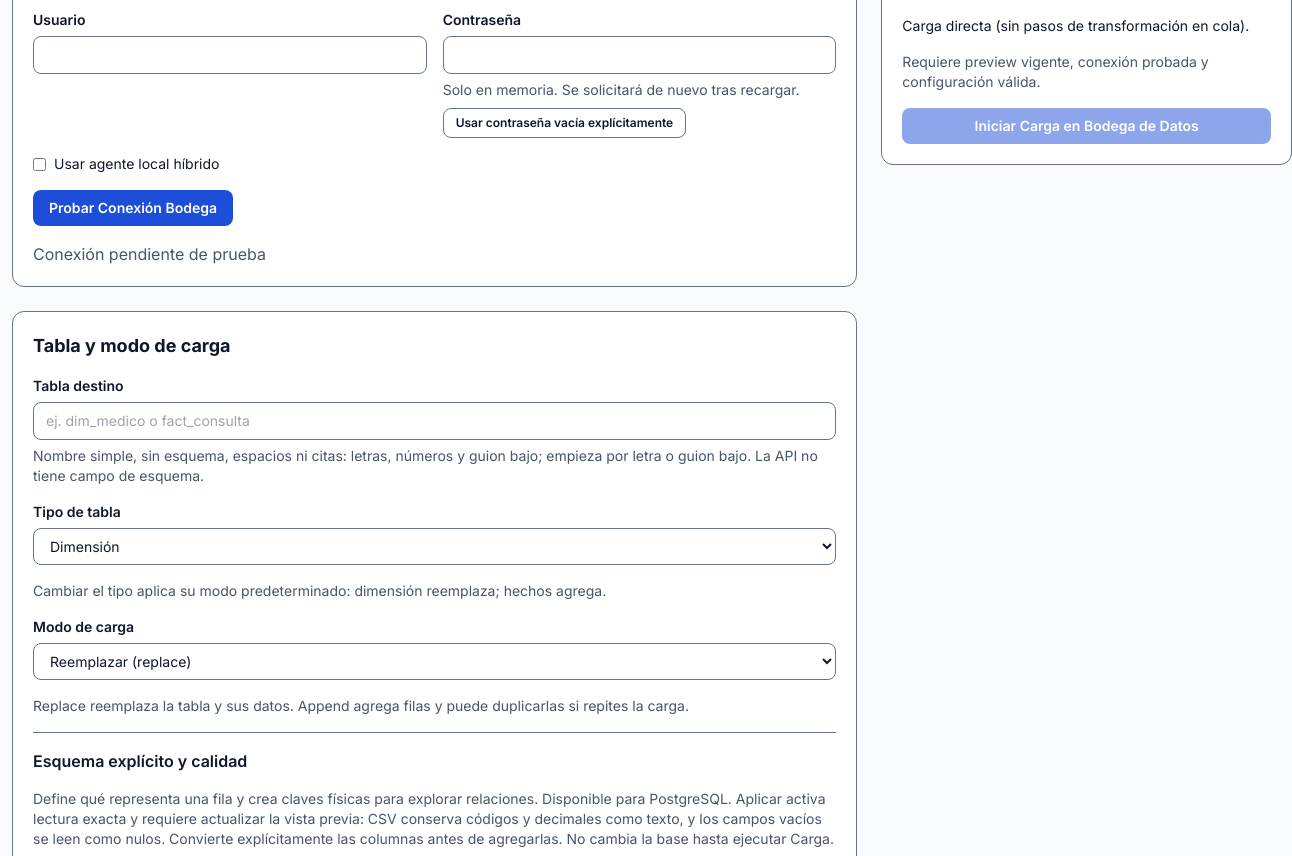
it: credential recovery UI › a failed preview prevents loading even with a verified destination
(page scrolled)
Type "t" into the field with placeholder "ej. dim_medico o fact_consulta" at (435, 421), box x1=33 y1=402 x2=836 y2=440
(page scrolled)
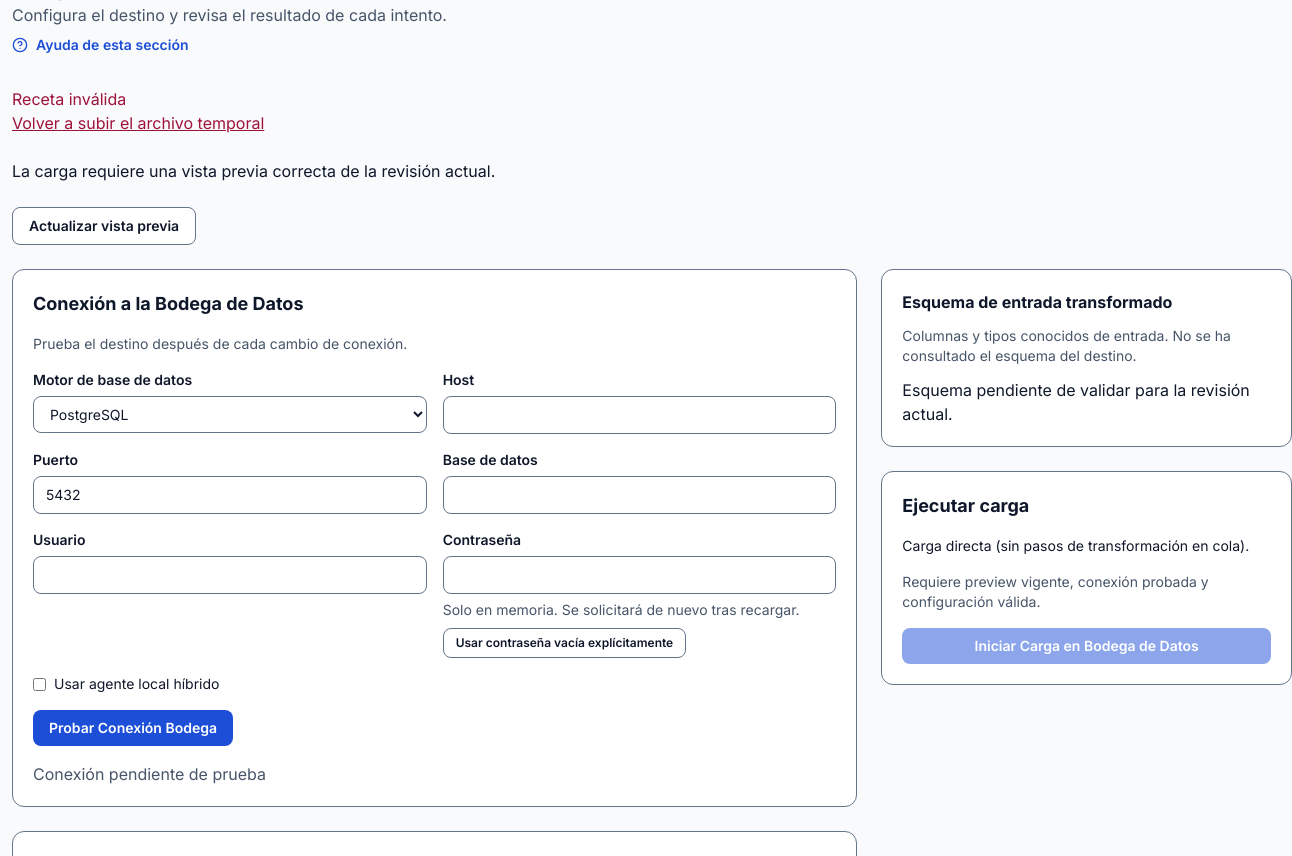
Type "localhost" into the field labelled "Host" at (640, 415), box x1=443 y1=396 x2=836 y2=434
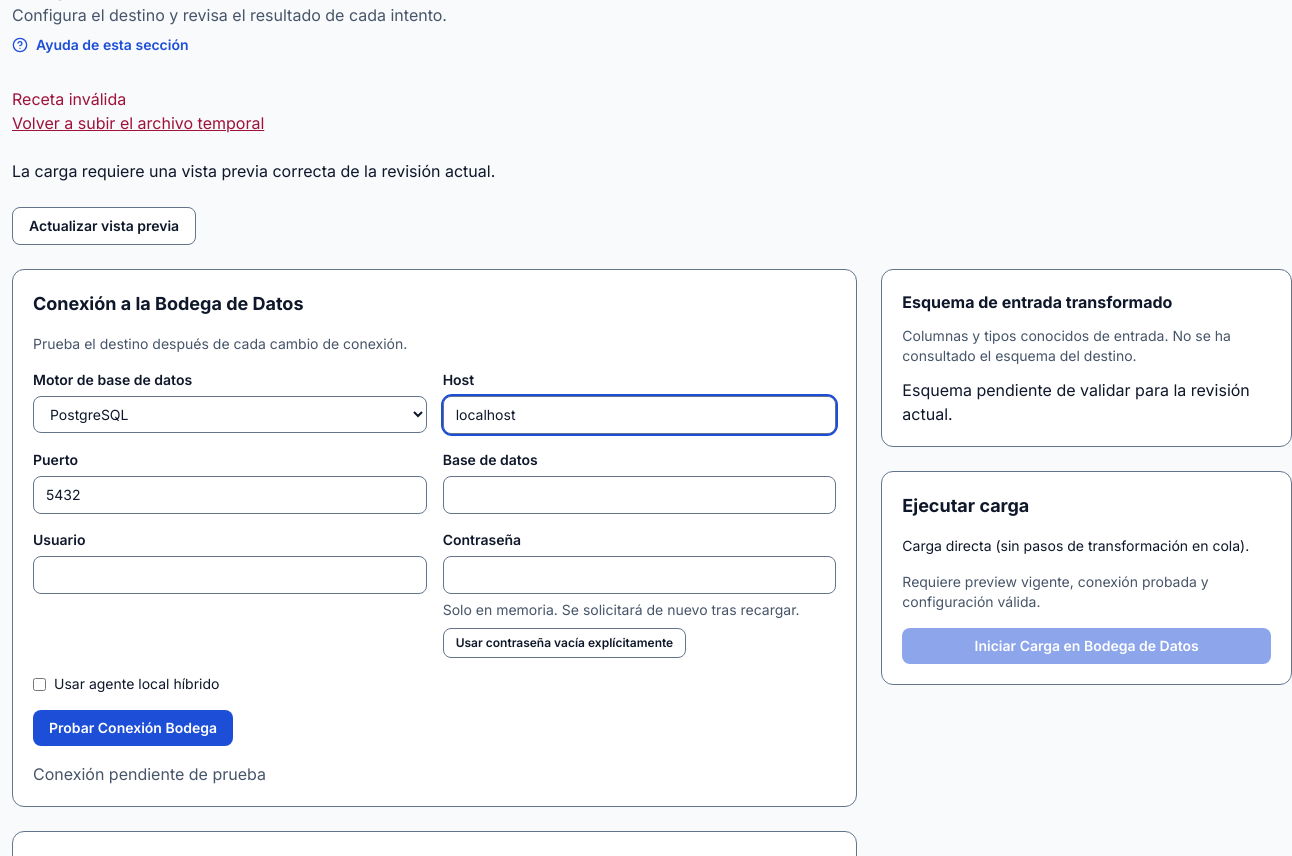
Type "base_de_destino" into the field labelled "Base de datos" at (640, 495), box x1=443 y1=476 x2=836 y2=514
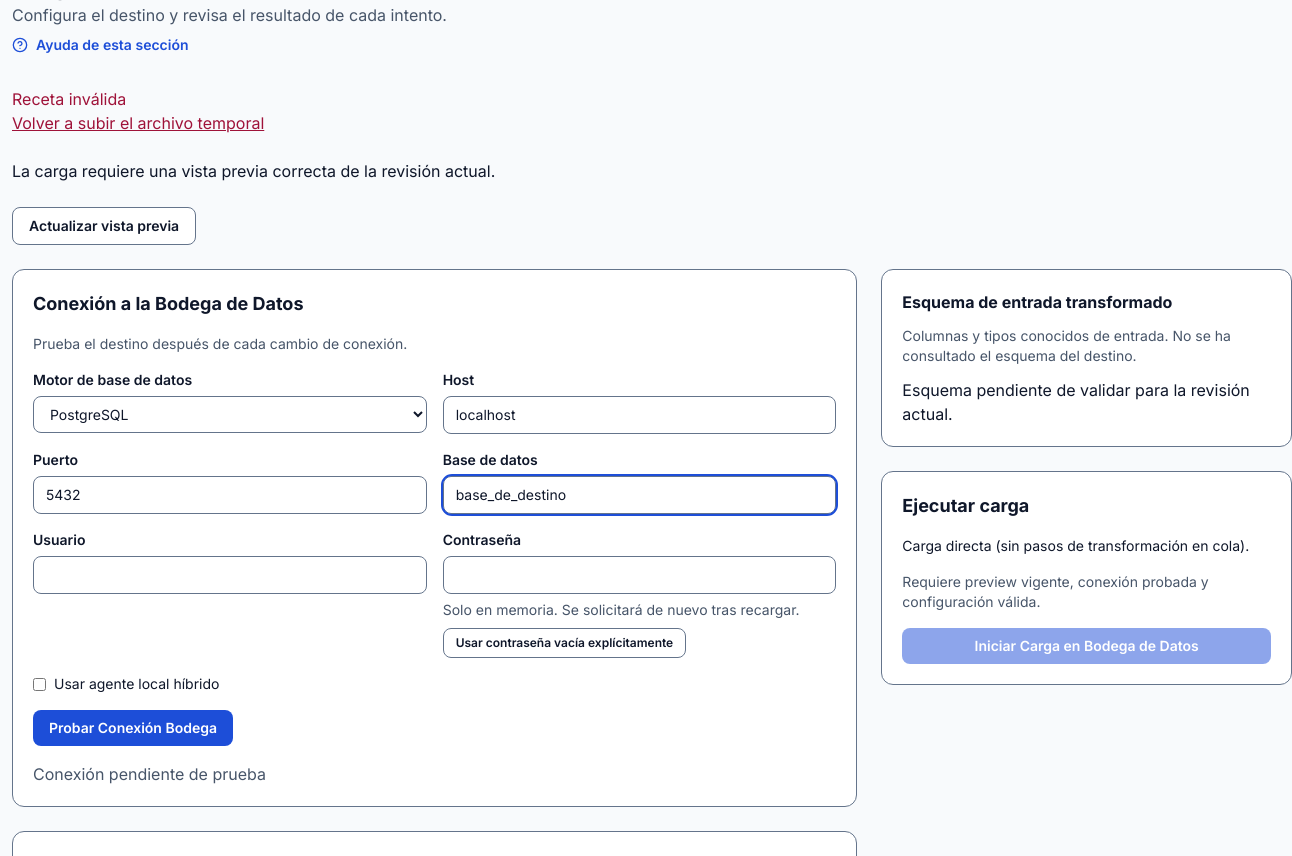
Type "postgres" into the field labelled "Usuario" at (230, 575), box x1=33 y1=556 x2=427 y2=594
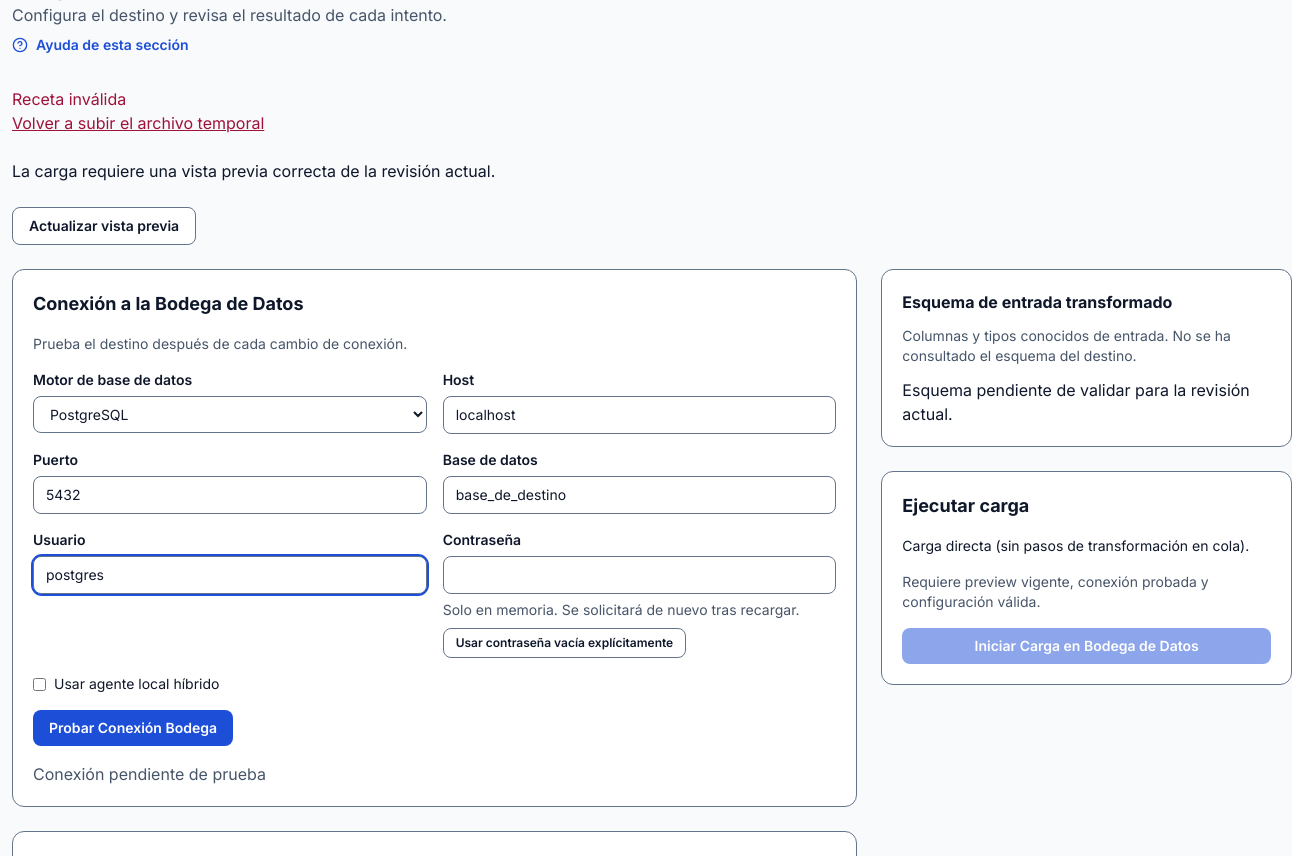
Click the button "Usar contraseña vacía explícitamente" at (564, 643), box x1=443 y1=628 x2=686 y2=658
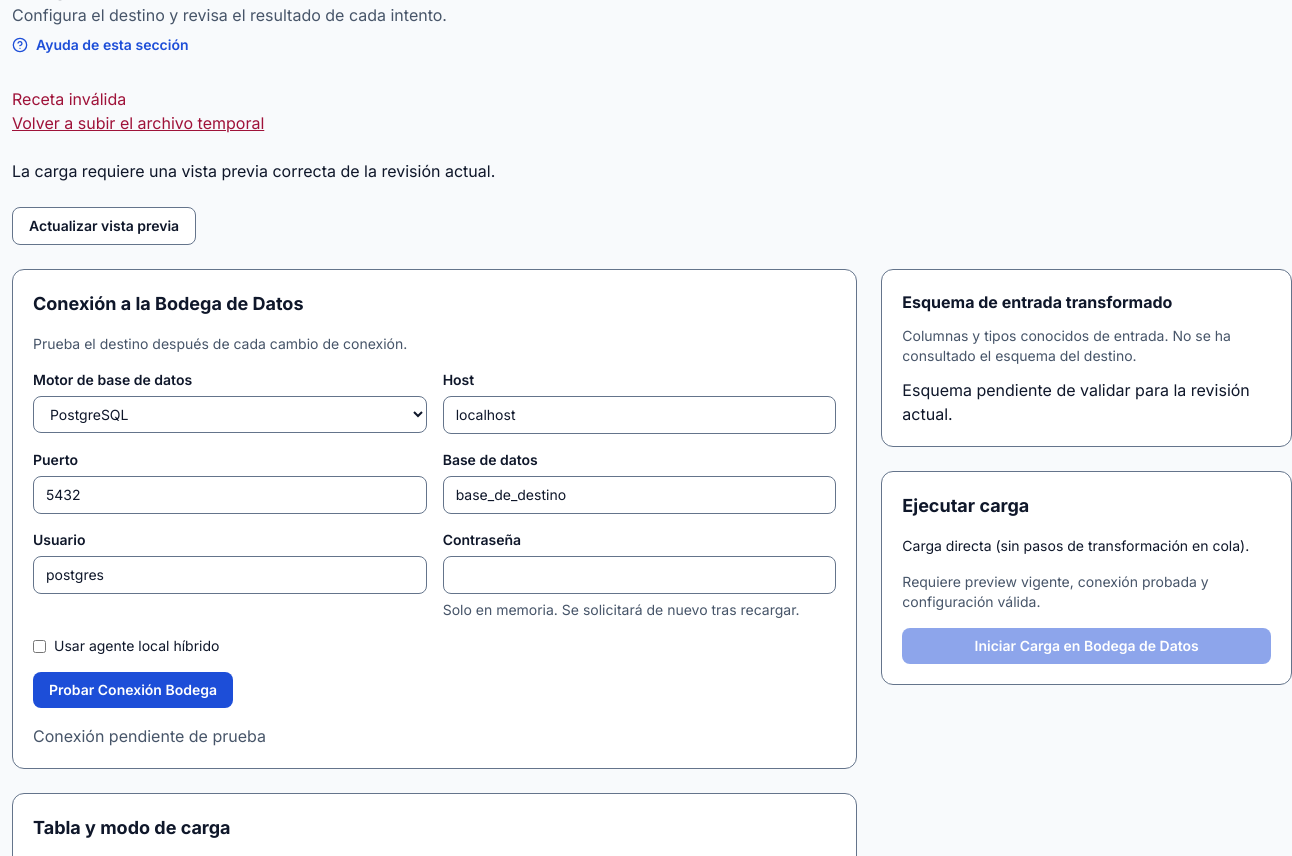
Click the button "Probar Conexión Bodega" at (133, 690), box x1=33 y1=672 x2=233 y2=708
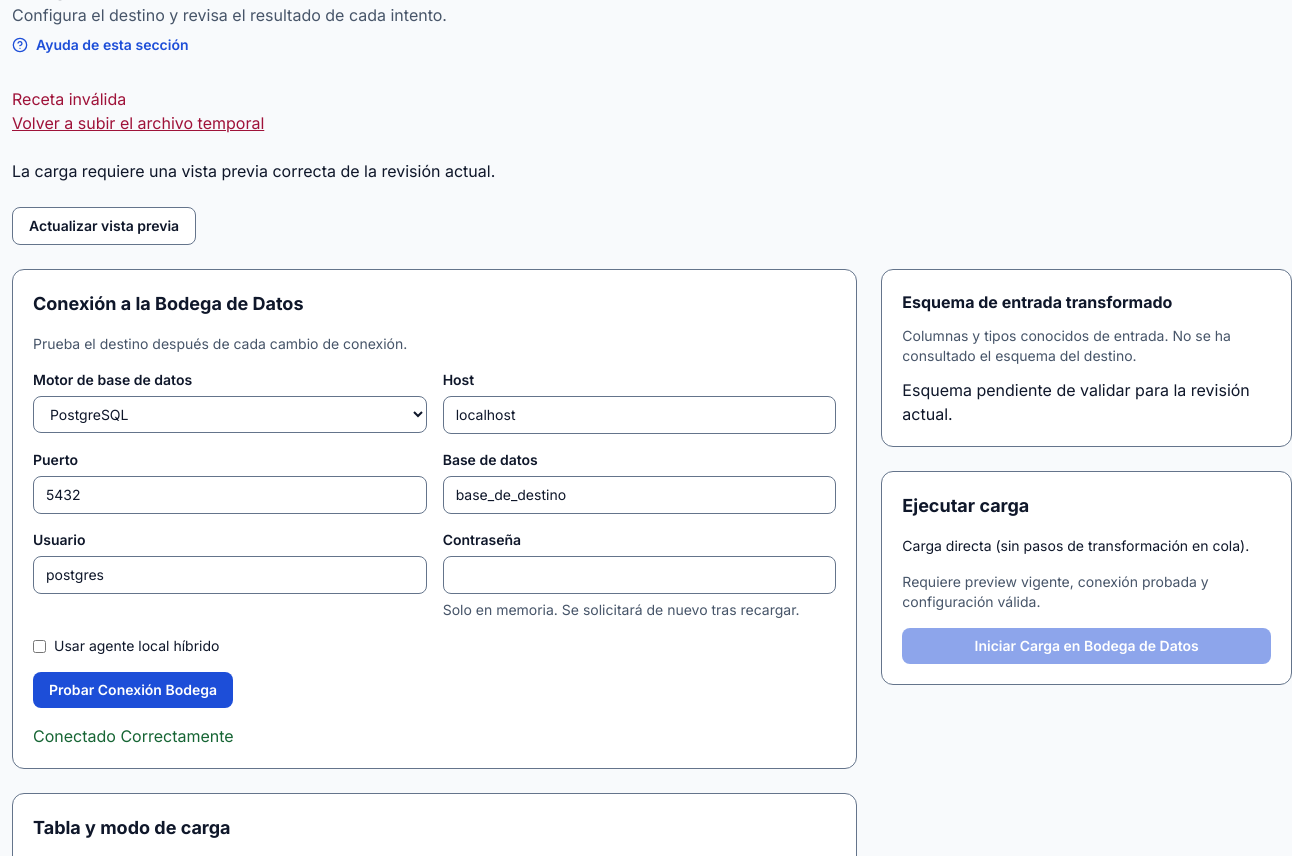
Expected: the button "Iniciar Carga en Bodega de Datos" is disabled, x1=902 y1=628 x2=1271 y2=664
Now the text "Conectado Correctamente" is shown, box x1=33 y1=726 x2=234 y2=746
